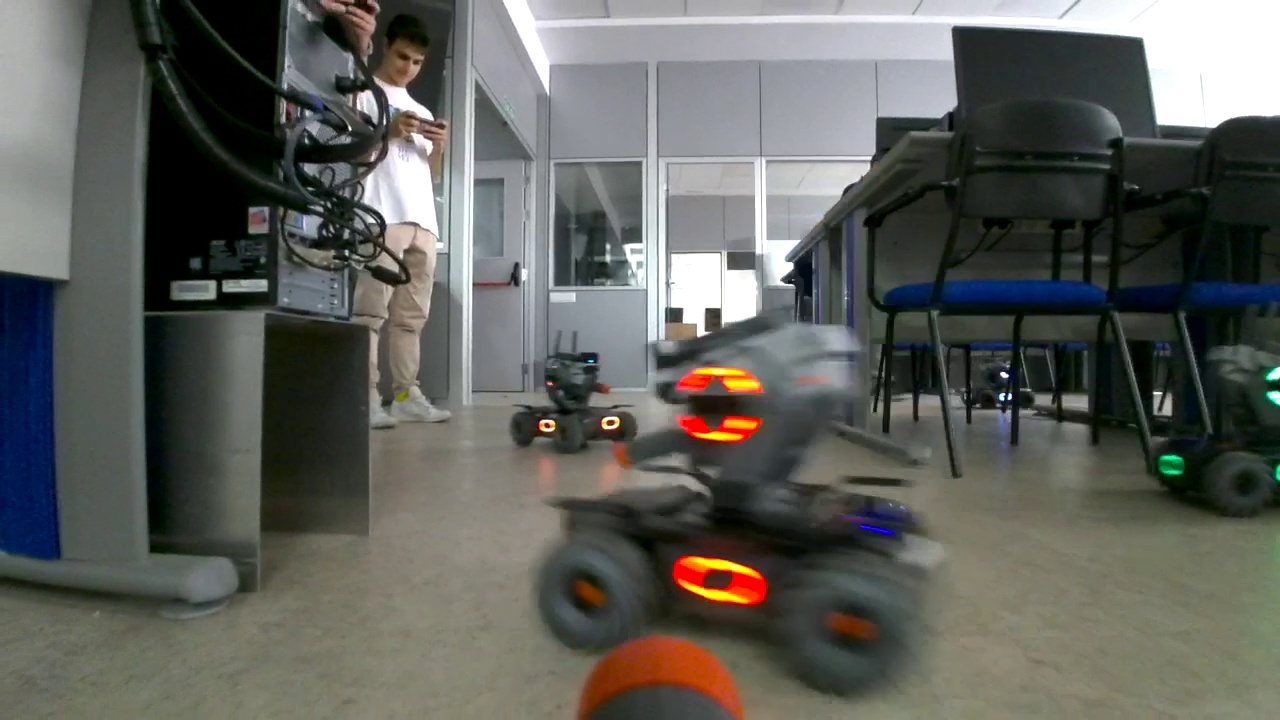robot: (534, 305, 931, 694), (1147, 310, 1280, 520), (511, 330, 638, 455), (964, 357, 1036, 409)
